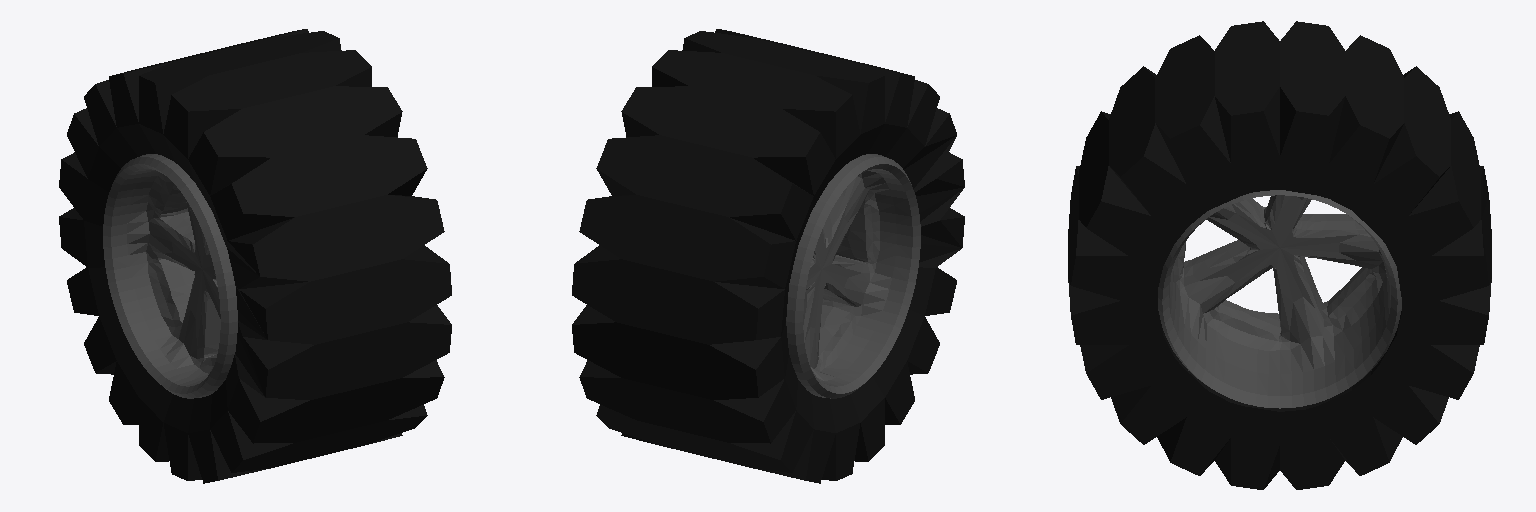
The model's file is CorobotWheel.obj.
The picture shows the model from 3 angles: view 1: azimuth 30°, elevation 25°; view 2: azimuth 150°, elevation 25°; view 3: azimuth 270°, elevation 25°; orthographic projection.
Parts seen in each view (by area): view 1: group3 group2 polySurface7, polySurface6 group3 group2; view 2: group3 group2 polySurface7, polySurface6 group3 group2; view 3: group3 group2 polySurface7, polySurface6 group3 group2.
Boxes of the visible parts, x1,y1,x2,y2 form: group3 group2 polySurface7: [59, 29, 451, 483]; polySurface6 group3 group2: [103, 154, 237, 398]; group3 group2 polySurface7: [572, 29, 964, 483]; polySurface6 group3 group2: [786, 154, 920, 398]; group3 group2 polySurface7: [1068, 21, 1491, 489]; polySurface6 group3 group2: [1158, 190, 1401, 408].
Size of the model in its own units: 0.0513 by 0.1001 by 0.1001.